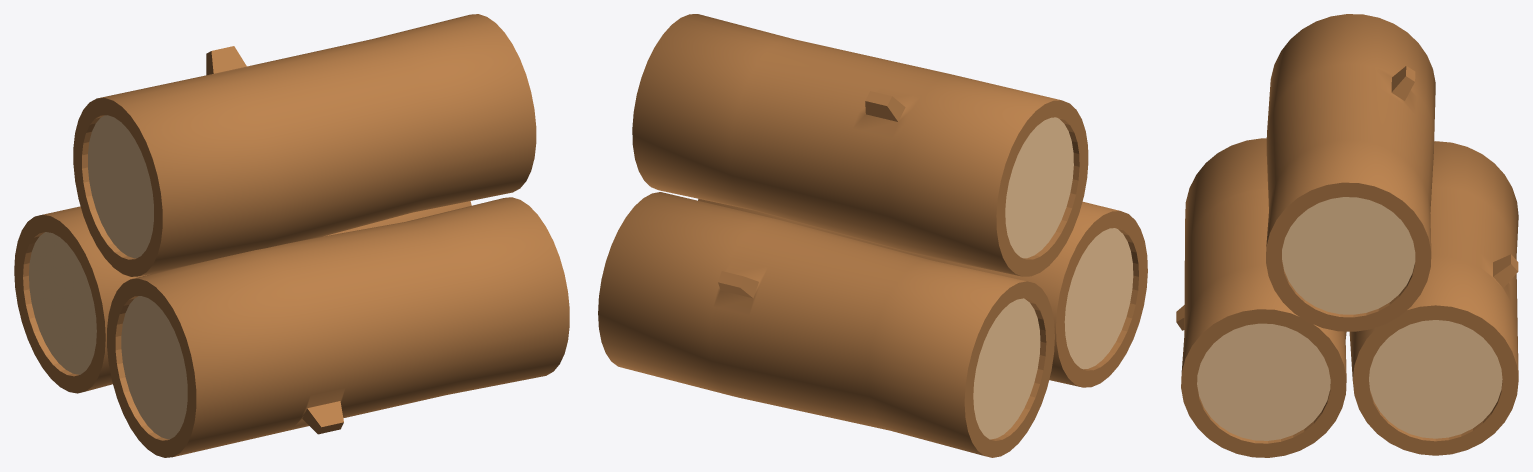
Rendered from Bush.fbx.
The picture shows the model from 3 angles, left to right: view 1: azimuth 30°, elevation 25°; view 2: azimuth 150°, elevation 25°; view 3: azimuth 270°, elevation 25°; orthographic projection. The views are drawn at different scales.
Parts seen in each view (by area): view 1: Bush2, Bush1, Bush; view 2: Bush2, Bush, Bush1; view 3: Bush2, Bush, Bush1.
Part boxes in pixels (left/top/right/bottom): Bush2: left=73, top=14, right=536, bottom=276; Bush1: left=107, top=197, right=569, bottom=457; Bush: left=14, top=201, right=471, bottom=393; Bush2: left=632, top=14, right=1088, bottom=276; Bush: left=598, top=192, right=1054, bottom=457; Bush1: left=698, top=198, right=1147, bottom=387; Bush2: left=1266, top=14, right=1435, bottom=331; Bush: left=1349, top=141, right=1518, bottom=455; Bush1: left=1176, top=138, right=1346, bottom=457.
Bounding box in the file's own units: 0.7365 × 0.5785 × 0.6214.
